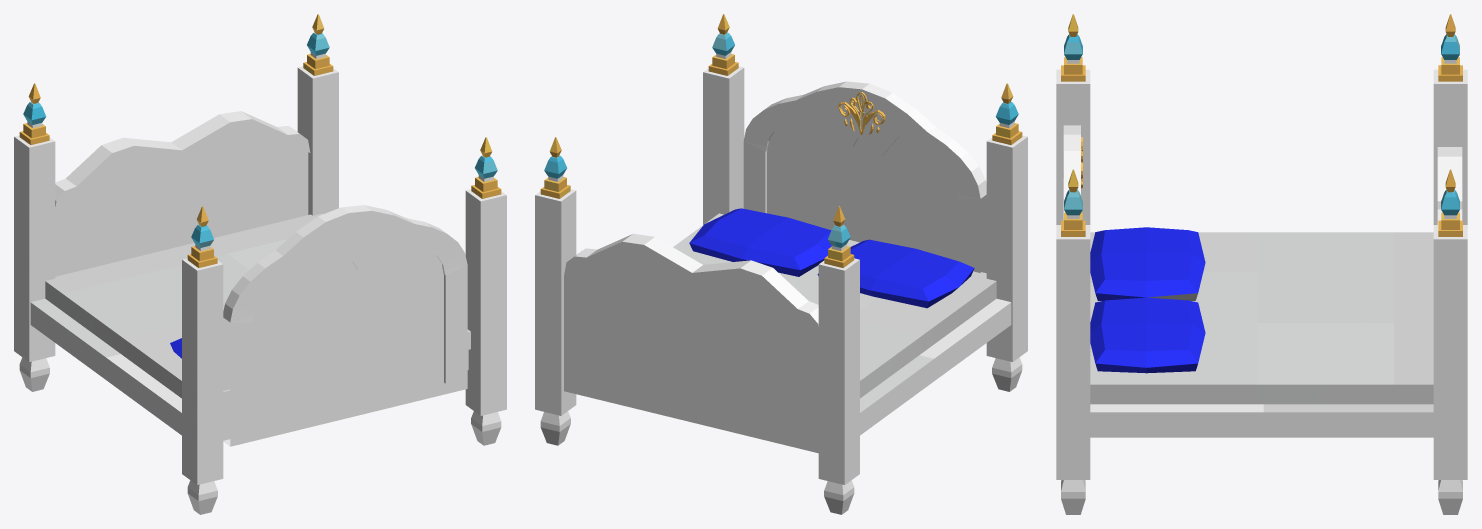
The model's file is royal_double_bed.obj.
3 views of the same model, side by side, from view 1: azimuth 30°, elevation 25°; view 2: azimuth 150°, elevation 25°; view 3: azimuth 270°, elevation 25° (orthographic). The views are drawn at different scales.
Visible parts, largest first — view 1: Cube; view 2: Cube; view 3: Cube.
Part boxes in pixels (x1,y1,x2,y2): Cube: (14,14,506,514); Cube: (535,14,1027,514); Cube: (1056,14,1467,514).
Size of the model in its own units: 4.46 by 4.2 by 4.57.
1 material, 1 textured.
